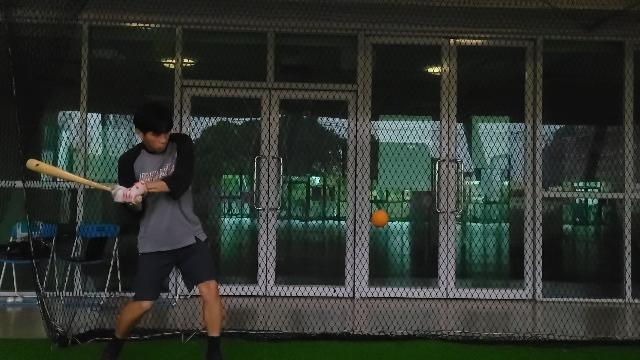bat: (26, 156, 114, 194)
